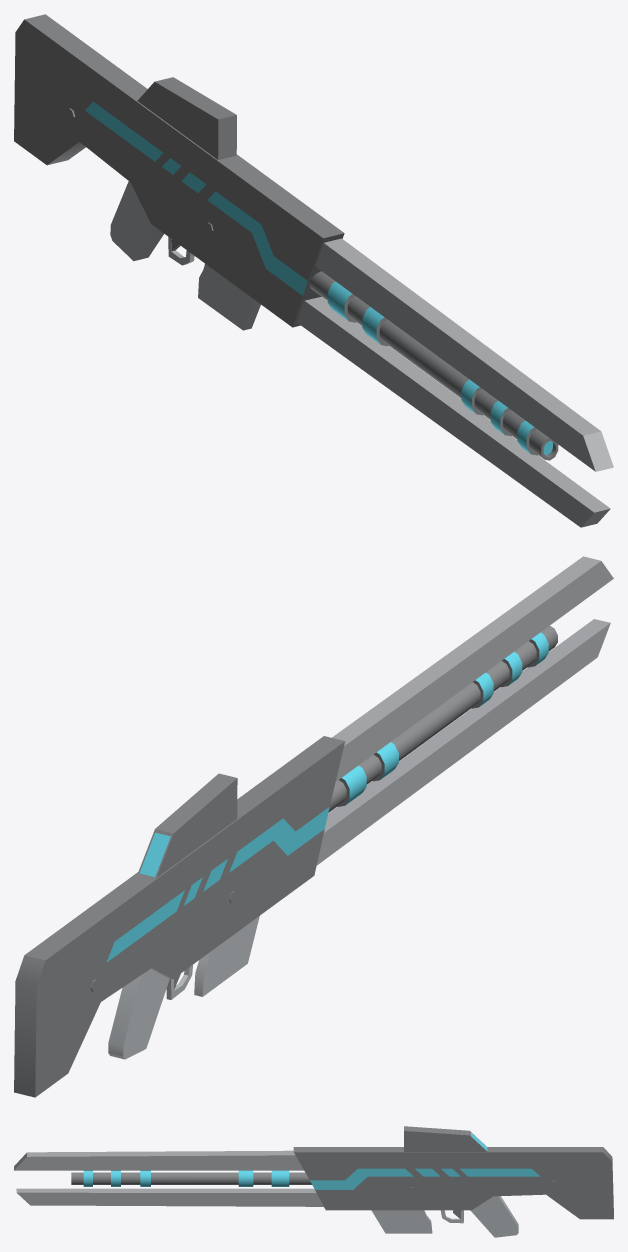
Rendered from Railgun.fbx.
3 views of the same model, one above another, from view 1: azimuth 30°, elevation 25°; view 2: azimuth 150°, elevation 25°; view 3: azimuth 270°, elevation 25° (orthographic). The views are drawn at different scales.
Parts seen in each view (by area): view 1: RailGun_2; view 2: RailGun_2; view 3: RailGun_2.
Boxes of the visible parts, x1=… form: RailGun_2: x1=14, y1=14, x2=613, y2=527; RailGun_2: x1=14, y1=556, x2=613, y2=1097; RailGun_2: x1=14, y1=1126, x2=613, y2=1237.
Size of the model in its own units: 2.31 by 18.64 by 94.69.
